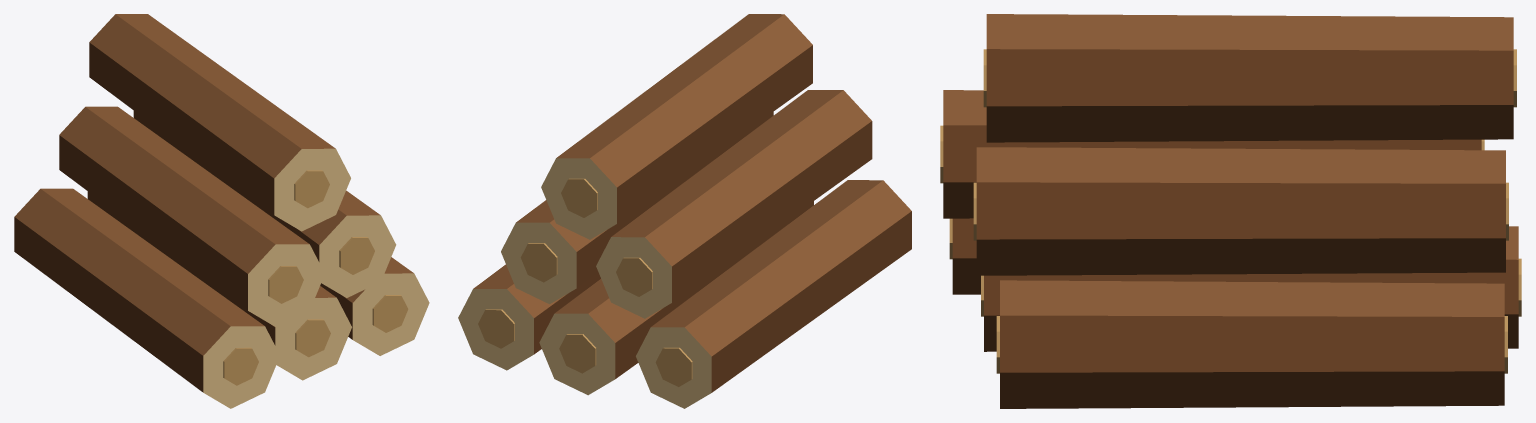
The model's file is log_stackLarge.glb.
3 views of the same model, side by side, from view 1: azimuth 30°, elevation 25°; view 2: azimuth 150°, elevation 25°; view 3: azimuth 270°, elevation 25° (orthographic). The views are drawn at different scales.
Visible parts, largest first — view 1: log_stackLarge; view 2: log_stackLarge; view 3: log_stackLarge.
Part boxes in pixels (left/top/right/bottom): log_stackLarge: left=14, top=14, right=429, bottom=408; log_stackLarge: left=458, top=14, right=911, bottom=408; log_stackLarge: left=940, top=14, right=1521, bottom=408.
Bounding box in the file's own units: 0.5101 × 0.4632 × 0.7491.
Materials: 1 (1 with a texture image).
